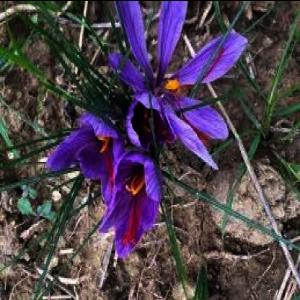Saffron: (115, 0, 240, 166), (50, 111, 120, 200), (102, 151, 158, 247)
